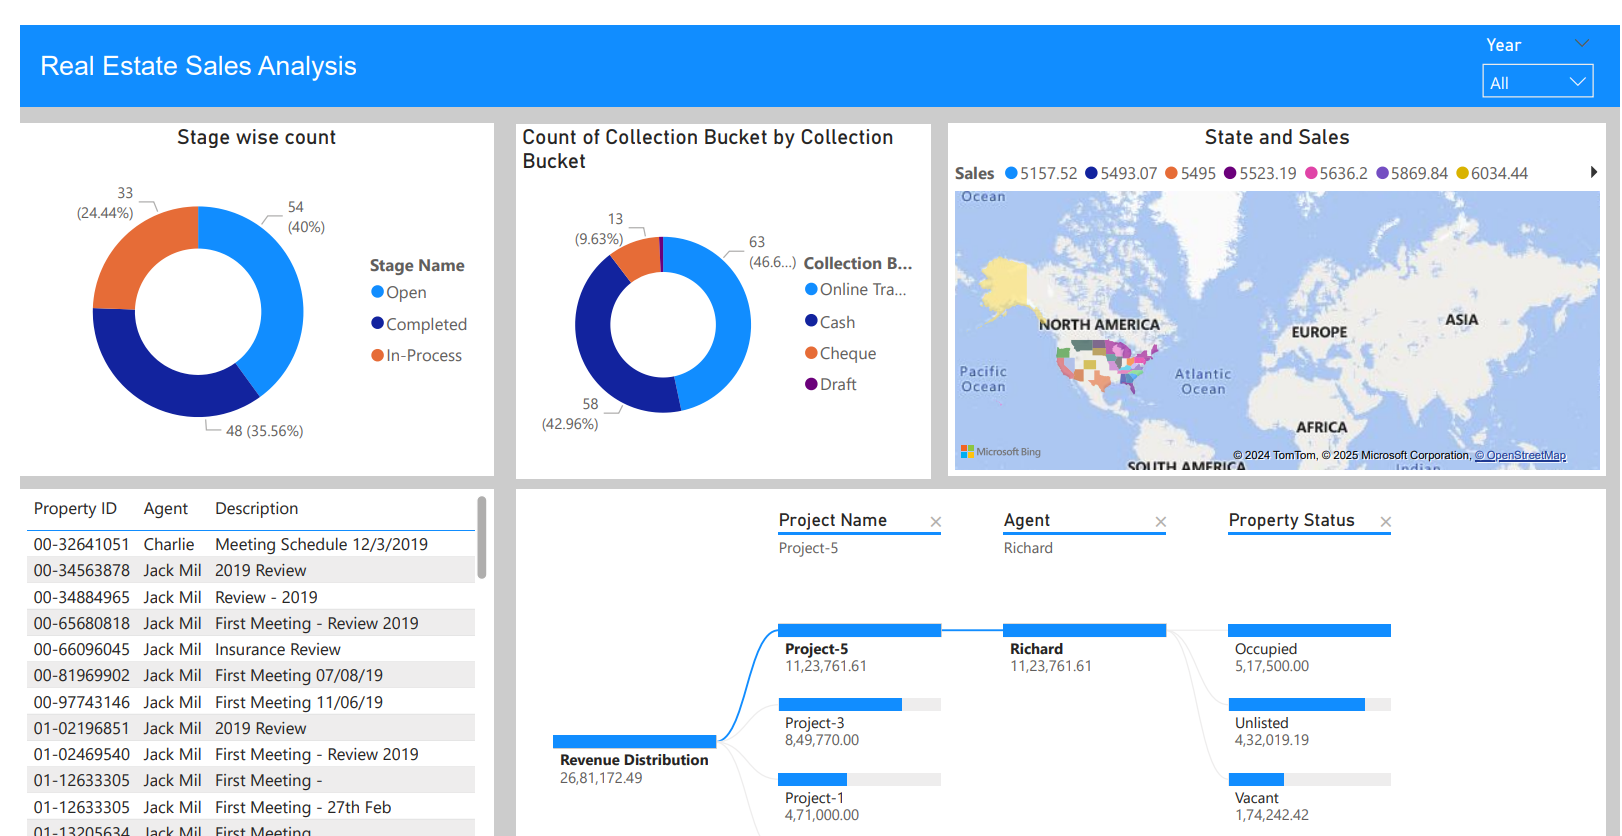

Layout of this report page (visuals, bound fields, positions):
{"tool":"powerbi","page":{"name":"Details page","canvas":[1280,1000],"ordinal":1},"visuals":[{"type":"shape","box":[0,0,1280.3,65],"z":0},{"type":"textbox","box":[11.3,15.5,278.4,38.2],"z":1000},{"type":"slicer","fields":{"Values":["DimDate.Year"]},"box":[1160.2,2.8,108.8,60.8],"z":2000},{"type":"filledMap","fields":{"Category":["Real Estate Data.State"],"Series":["Real Estate Data.Sales"]},"box":[742.9,78.6,525.7,282.9],"z":3000},{"type":"donutChart","title":"Stage wise count","fields":{"Category":["Real Estate Data.Stage Name"],"Series":["Real Estate Data.Stage Name"],"Y":["CountNonNull(Real Estate Data.Stage Name)"]},"box":[0,78.6,378.6,282.9],"z":4000},{"type":"donutChart","fields":{"Category":["Real Estate Data.Collection Bucket"],"Y":["CountNonNull(Real Estate Data.Collection Bucket)"]},"box":[397.1,78.6,331.4,284.3],"z":5000},{"type":"tableEx","fields":{"Values":["Real Estate Data.Property ID","Real Estate Data.Agent","Real Estate Data.Description"]},"box":[0,371.4,378.6,382.9],"z":5001},{"type":"decompositionTreeVisual","fields":{"Analyze":["Sum(Real Estate Data.Revenue)"],"ExplainBy":["Real Estate Data.Project Name","Real Estate Data.Agent","Real Estate Data.Property Status"]},"box":[397.1,371.4,871.4,382.9],"z":5002}]}

Visuals, with their boxes on the page's 1280x1000 design canvas (x1, y1, x2, y2). These are canvas units, not pixel positions in the 1622x836 screenshot, which may show the page scaled, cropped or inside an application window:
shape: select_region(0, 0, 1280, 65)
textbox: select_region(11, 16, 290, 54)
slicer - DimDate.Year: select_region(1160, 3, 1269, 64)
filledMap - Real Estate Data.State x Real Estate Data.Sales: select_region(743, 79, 1269, 362)
"Stage wise count" donutChart: select_region(0, 79, 379, 362)
donutChart - Real Estate Data.Collection Bucket x CountNonNull(Real Estate Data.Collection Bucket): select_region(397, 79, 728, 363)
tableEx - Real Estate Data.Property ID x Real Estate Data.Agent: select_region(0, 371, 379, 754)
decompositionTreeVisual - Sum(Real Estate Data.Revenue) x Real Estate Data.Project Name: select_region(397, 371, 1268, 754)
